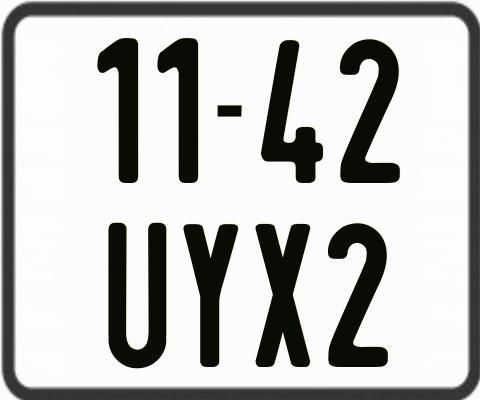1: (156, 37, 201, 184), (96, 36, 138, 182)
2: (326, 223, 390, 368), (338, 37, 398, 185)
4: (259, 37, 322, 185)
U: (108, 223, 170, 370)
X: (254, 223, 310, 372)
Y: (181, 221, 235, 368)
